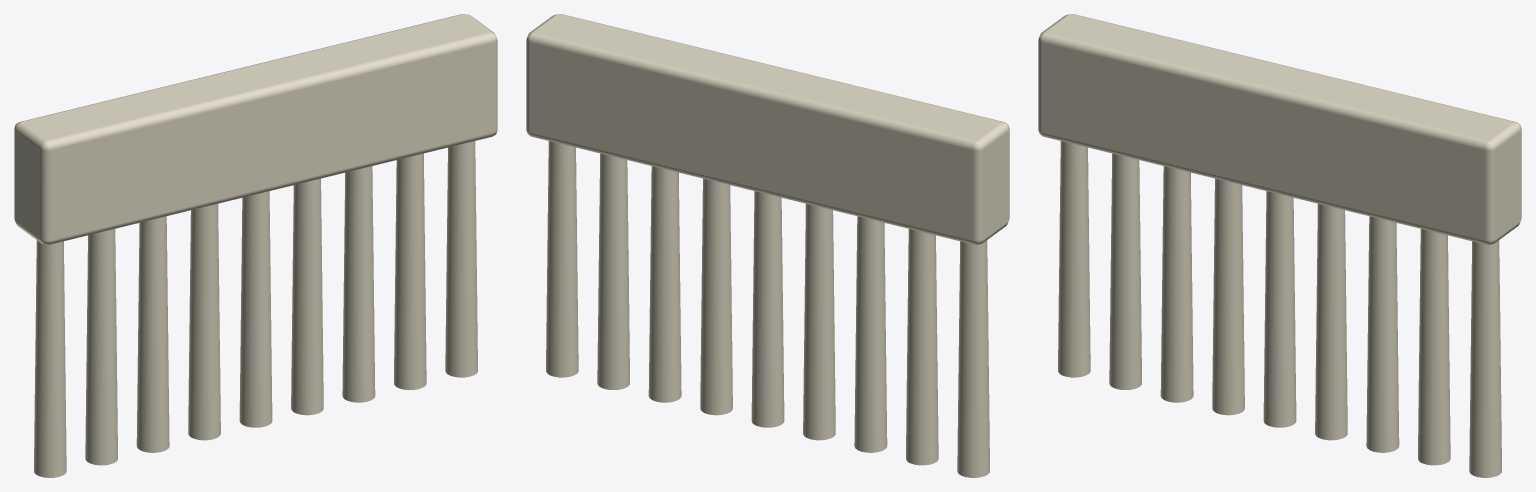
File: primitive-crafting-workshop-bone-comb-951bd956__21547.glb
3 views of the same model, side by side, from view 1: azimuth 30°, elevation 25°; view 2: azimuth 150°, elevation 25°; view 3: azimuth 330°, elevation 25° (orthographic).
Visible parts, largest first — view 1: bone-comb; view 2: bone-comb; view 3: bone-comb.
Boxes of the visible parts, x1,y1,x2,y2 form: bone-comb: (14,14,497,477); bone-comb: (526,14,1009,477); bone-comb: (1038,14,1521,477).
Size of the model in its own units: 0.16 by 0.115 by 0.02.
